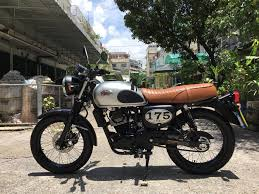motorcycle: (31, 66, 242, 174)
